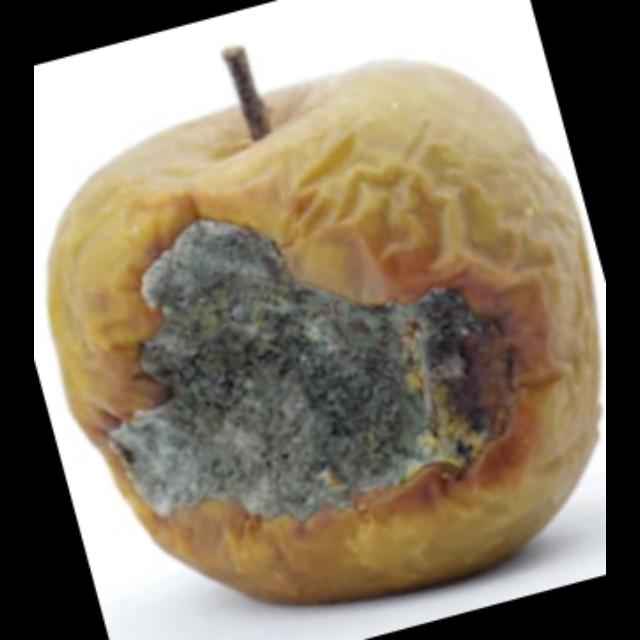Apel Tidak Segar: (45, 35, 602, 610)
